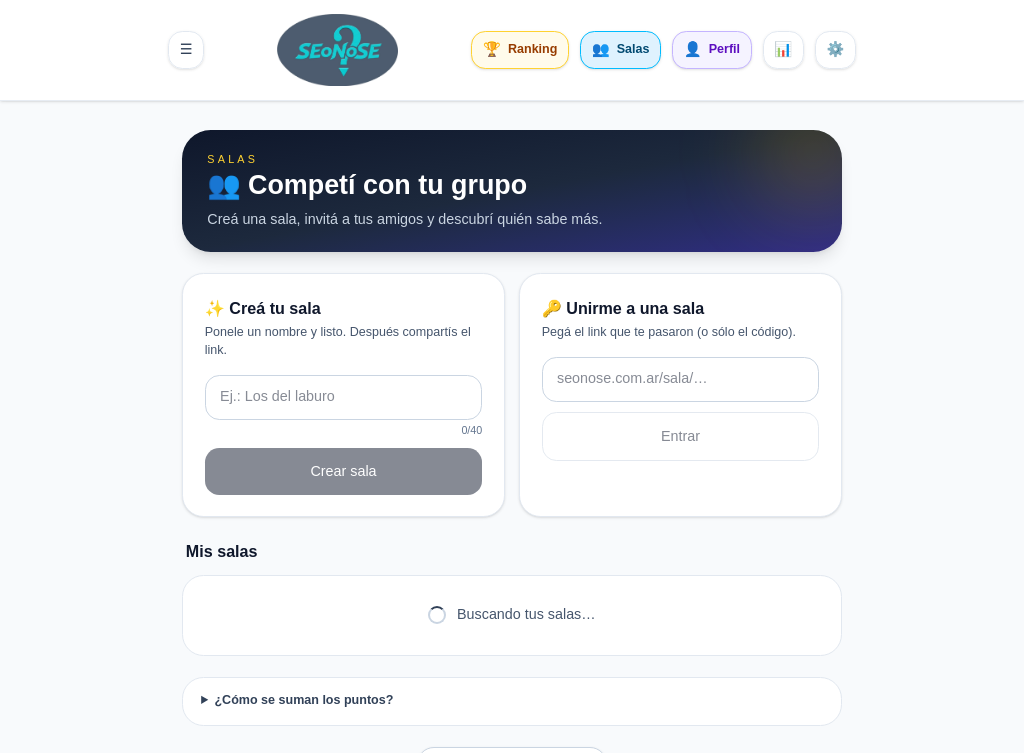
Test case: crear una sala › valida el nombre antes de enviar
This screenshot has width=1024, height=753.
Step 1. Type "<script>" into the field named "Nombre de la sala" → (344, 397), box [205,375,482,420]
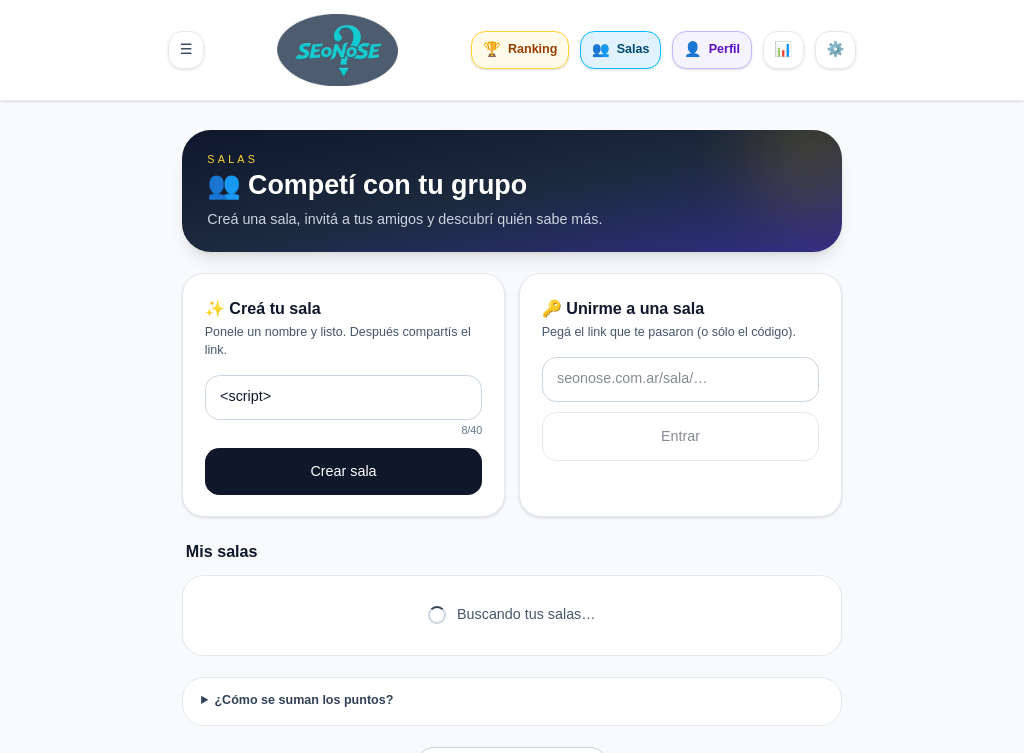
Step 2. Click the button "Crear sala" → (344, 472), box [205,448,482,495]
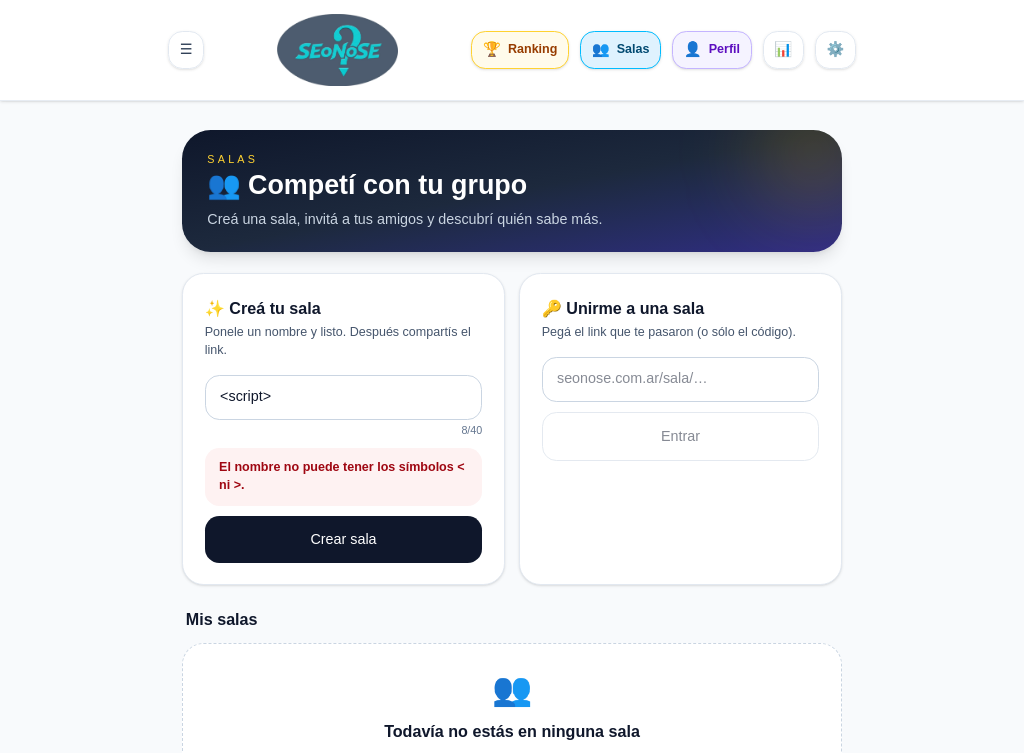
Check: the text "El nombre no puede tener los símbolos < ni >." is shown, box [205,448,482,506]
